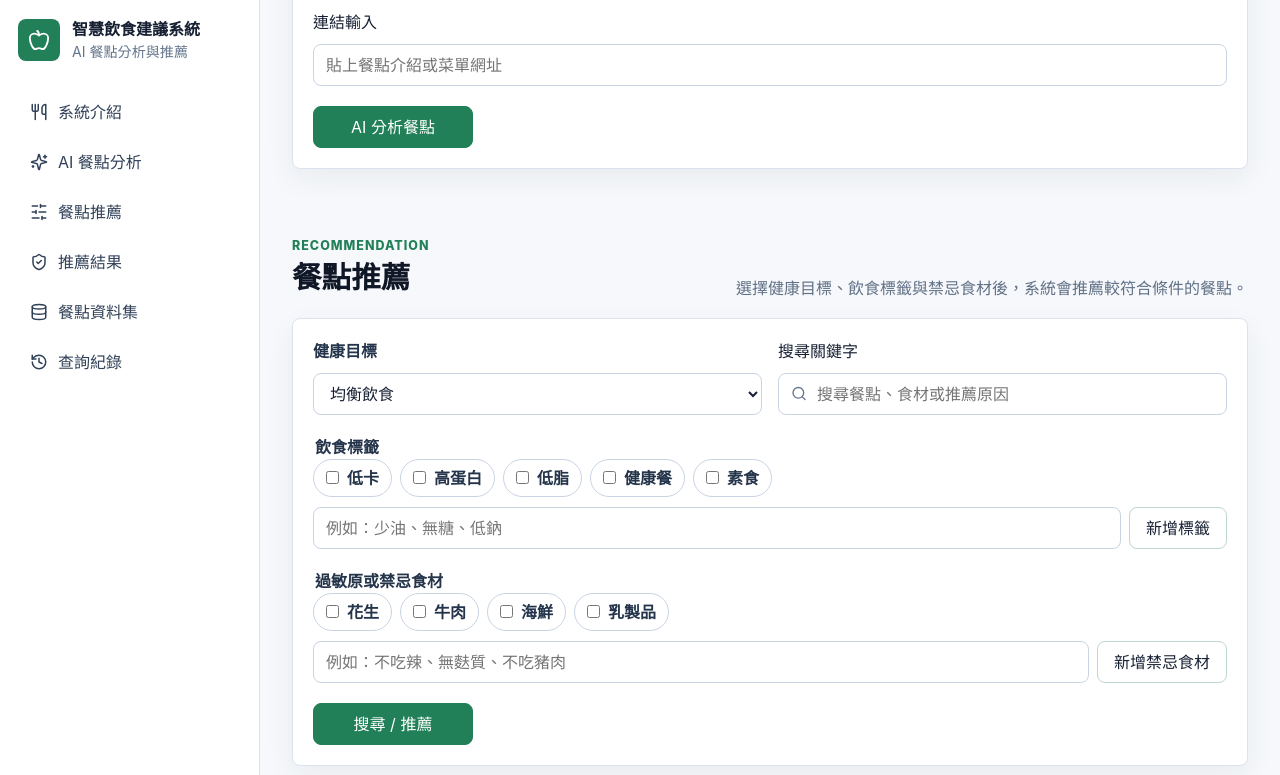
Scenario: App › shows no-result message
(page scrolled)
Type "不存在的餐點" into the search field. click: (1014, 394)
box: [815,374,1214,414]
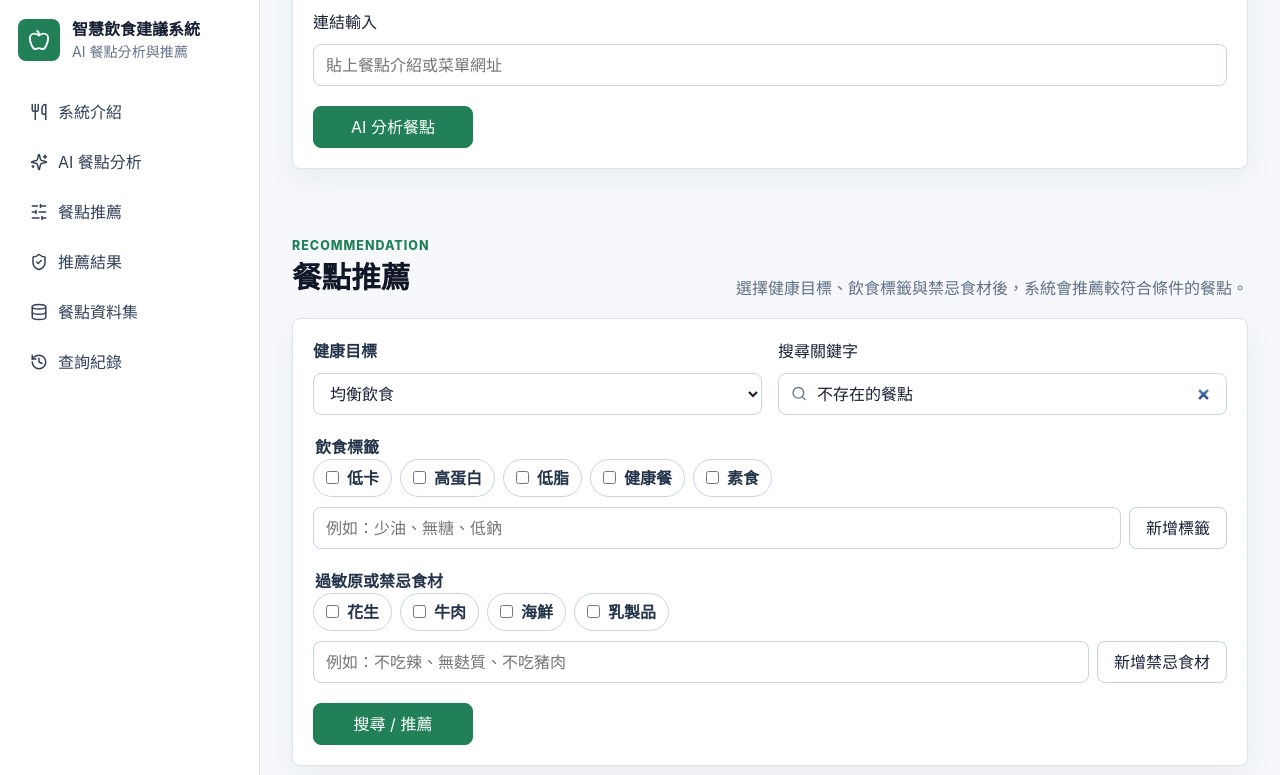
Click the button "搜尋 / 推薦". click: (393, 724)
box: [313,703,473,745]
(page scrolled)
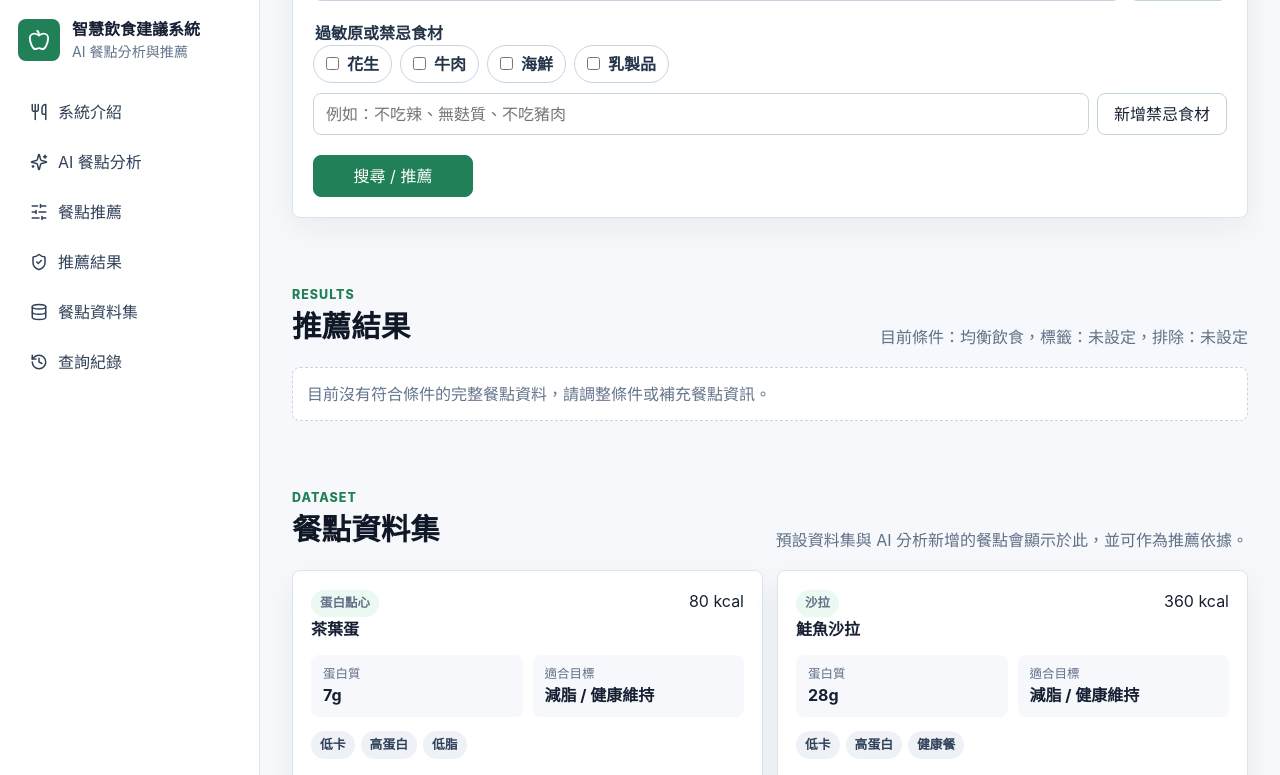
Result: the text "目前沒有符合條件的完整餐點資料，請調整條件或補充餐點資訊。" is shown at [292,367,1248,421]
